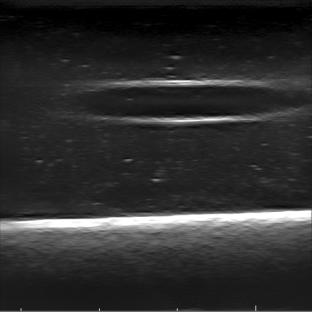vessel: (72, 78, 299, 125)
